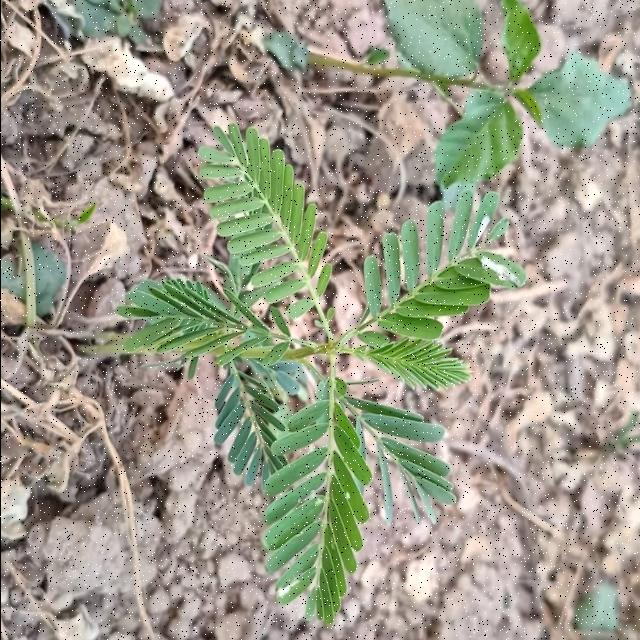plant: (89, 125, 525, 624)
